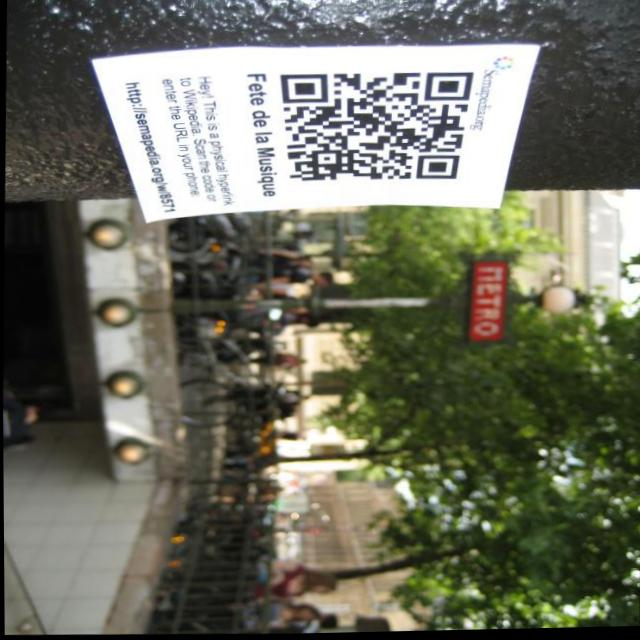qrcode: (277, 72, 473, 187)
